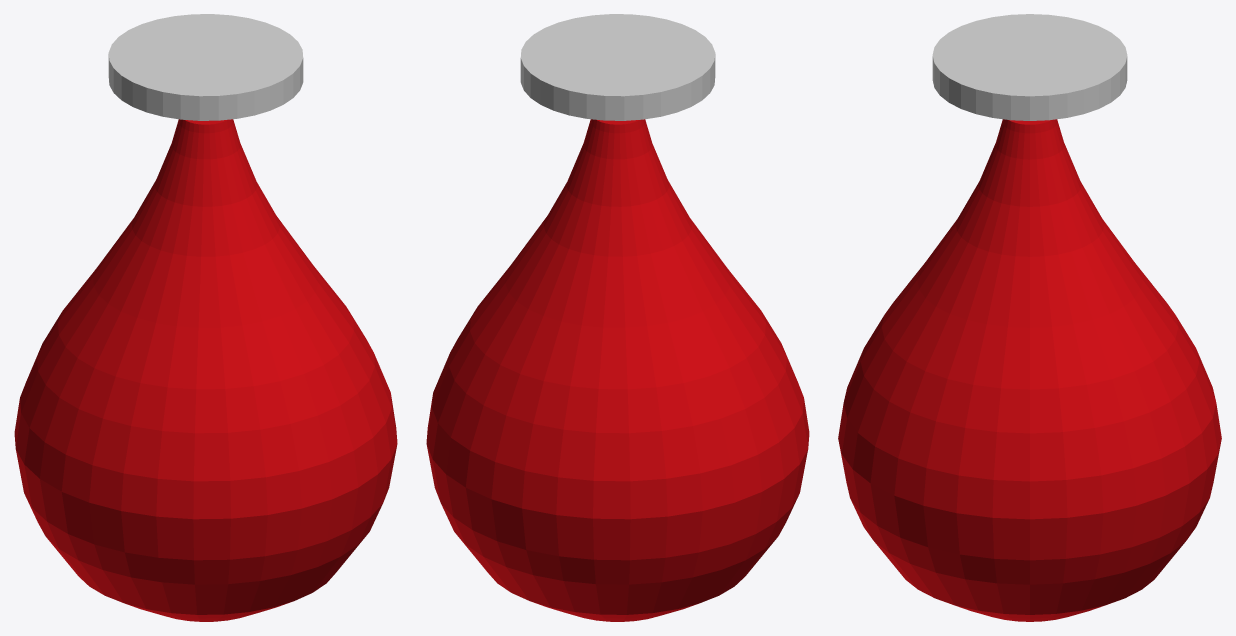
The model's file is fastbag.fbx.
3 views of the same model, side by side, from view 1: azimuth 30°, elevation 25°; view 2: azimuth 150°, elevation 25°; view 3: azimuth 270°, elevation 25° (orthographic).
Parts seen in each view (by area): view 1: Cylinder.002, Cylinder.003; view 2: Cylinder.002, Cylinder.003; view 3: Cylinder.002, Cylinder.003.
Boxes of the visible parts, x1,y1,x2,y2 form: Cylinder.002: [14, 119, 397, 621]; Cylinder.003: [108, 14, 303, 120]; Cylinder.002: [426, 119, 809, 621]; Cylinder.003: [520, 14, 715, 120]; Cylinder.002: [838, 119, 1221, 621]; Cylinder.003: [932, 14, 1127, 120].
Bounding box in the file's own units: 287 × 454 × 287.
